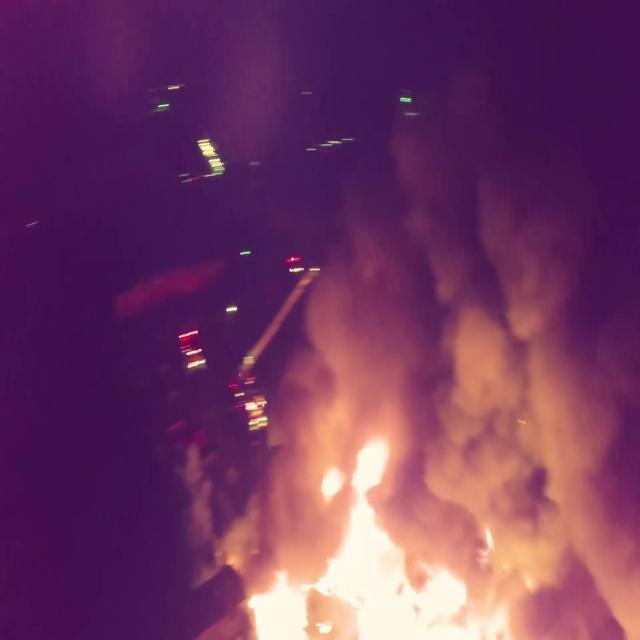Fire: (234, 440, 522, 640)
Smoke: (237, 44, 638, 555)
